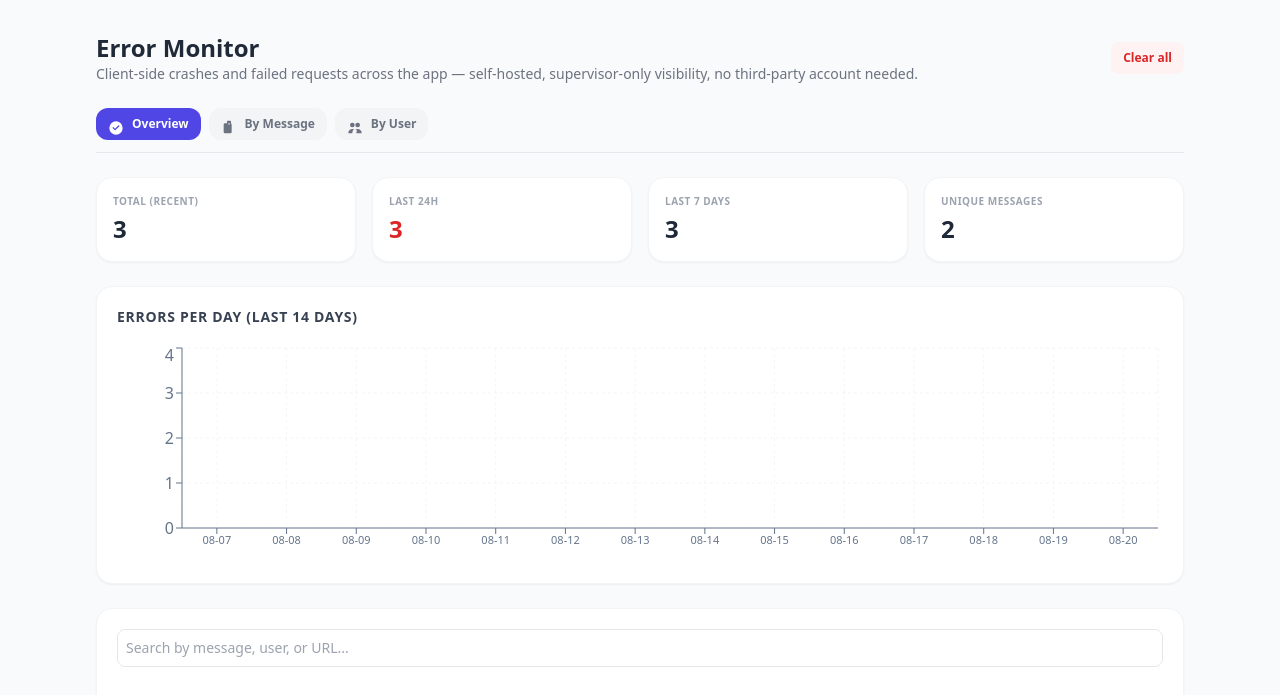
ErrorMonitorView › the By Message tab deduplicates recurring errors with an occurrence count
Click the tab "By Message": (268, 124) [208,108,327,140]
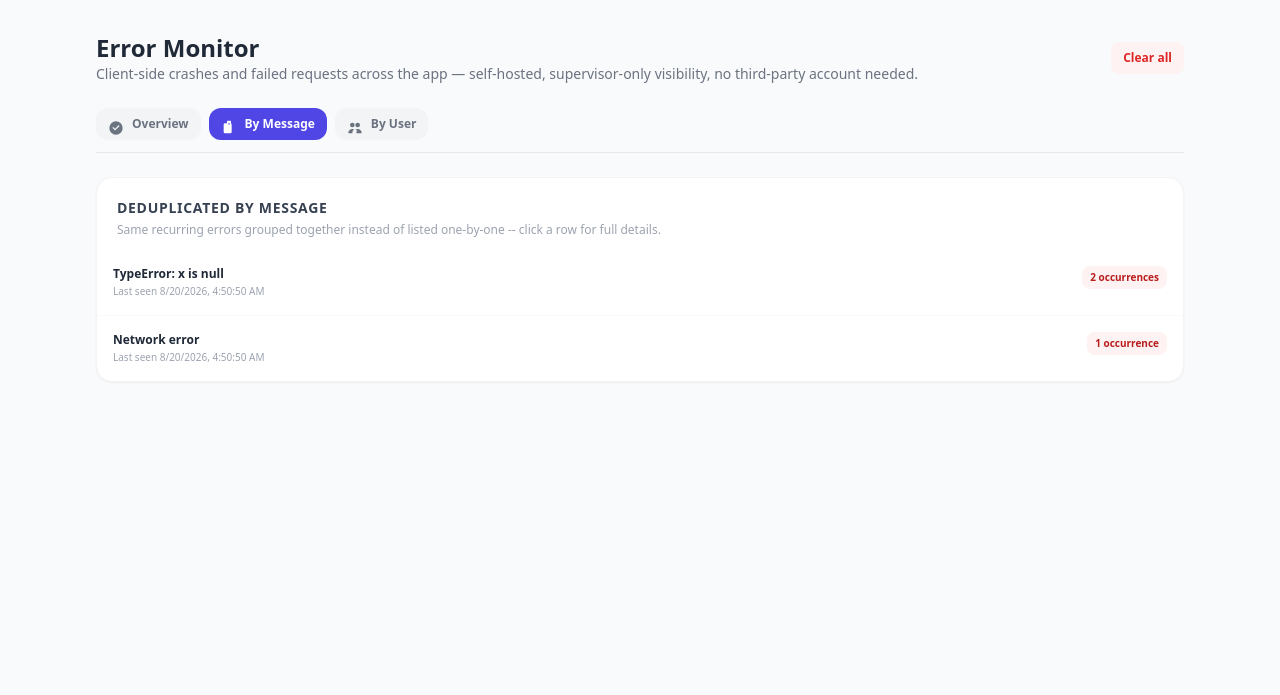
Expected: the text "TypeError: x is null" is shown once, [113,265,224,282]
Result: the text "2 occurrences" is shown at [1082,266,1167,289]
Result: the text "1 occurrence" is shown at [1087,332,1167,355]
